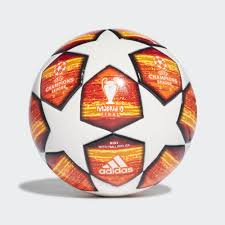top: (27, 25, 202, 200)
